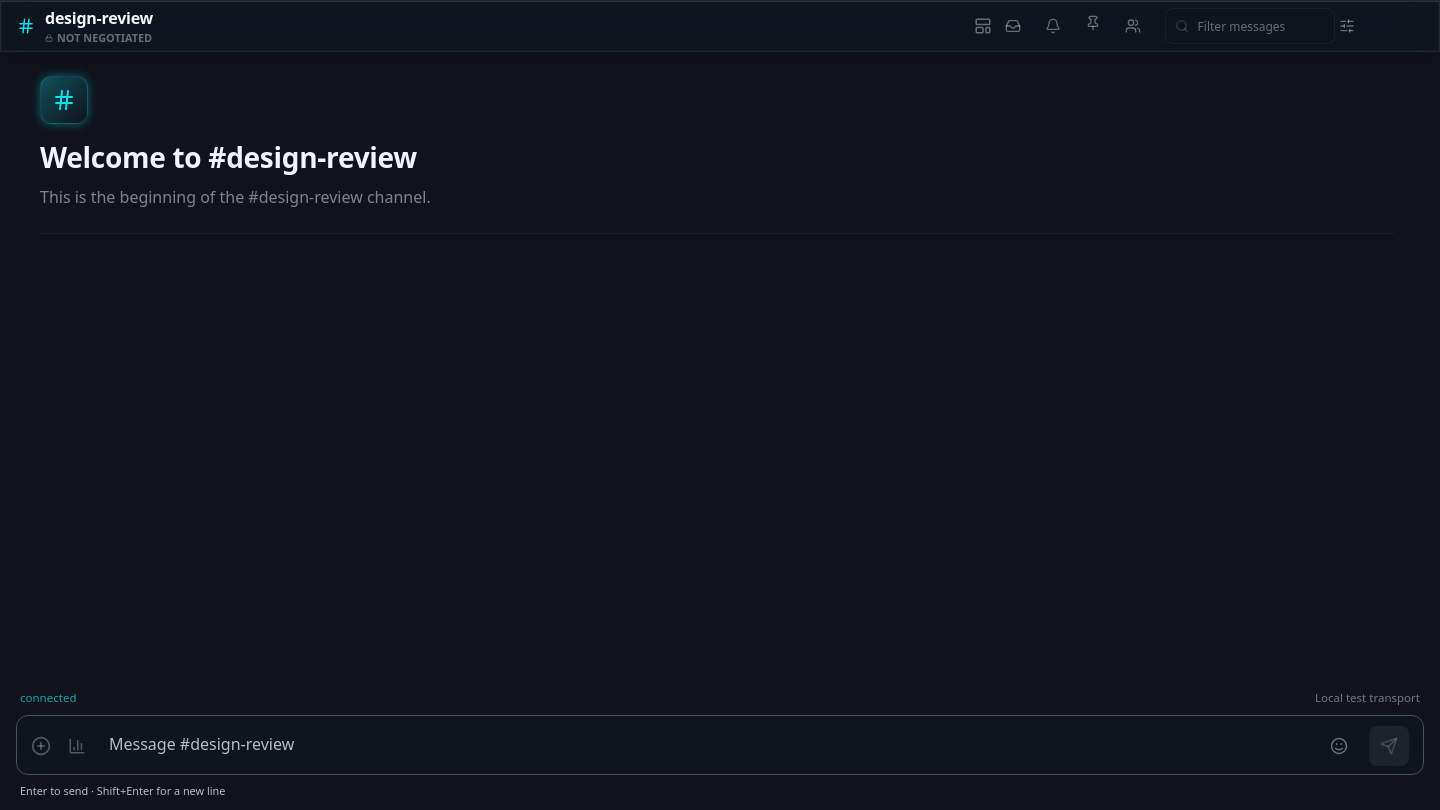
Scenario: chat composer submission › coalesces repeated Enter and preserves edits while a send is pending
In the text box named "Message Input": {"x": 705, "y": 745} [101, 722, 1309, 768], type "first draft"
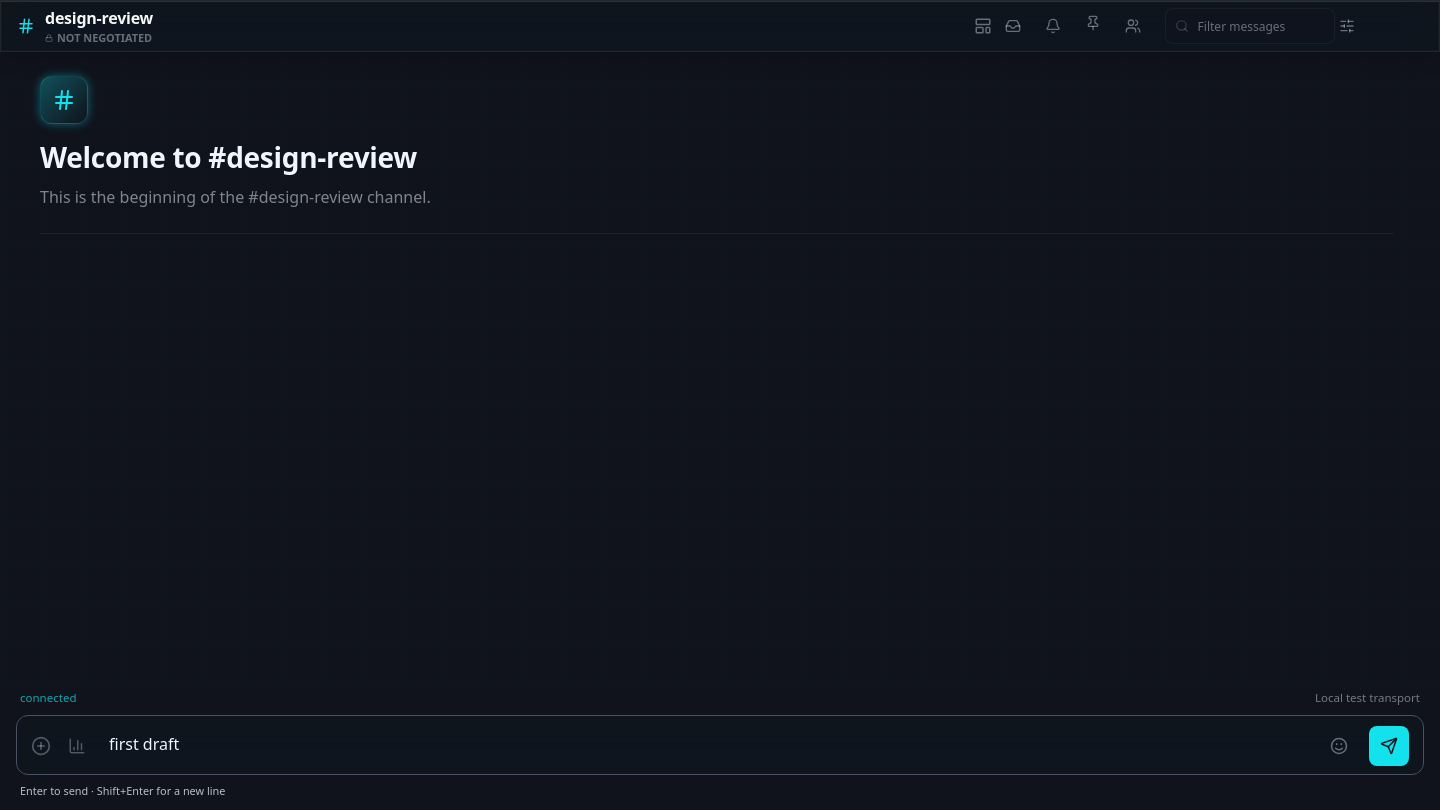
Press Enter in the text box named "Message Input", box [101, 722, 1309, 768]
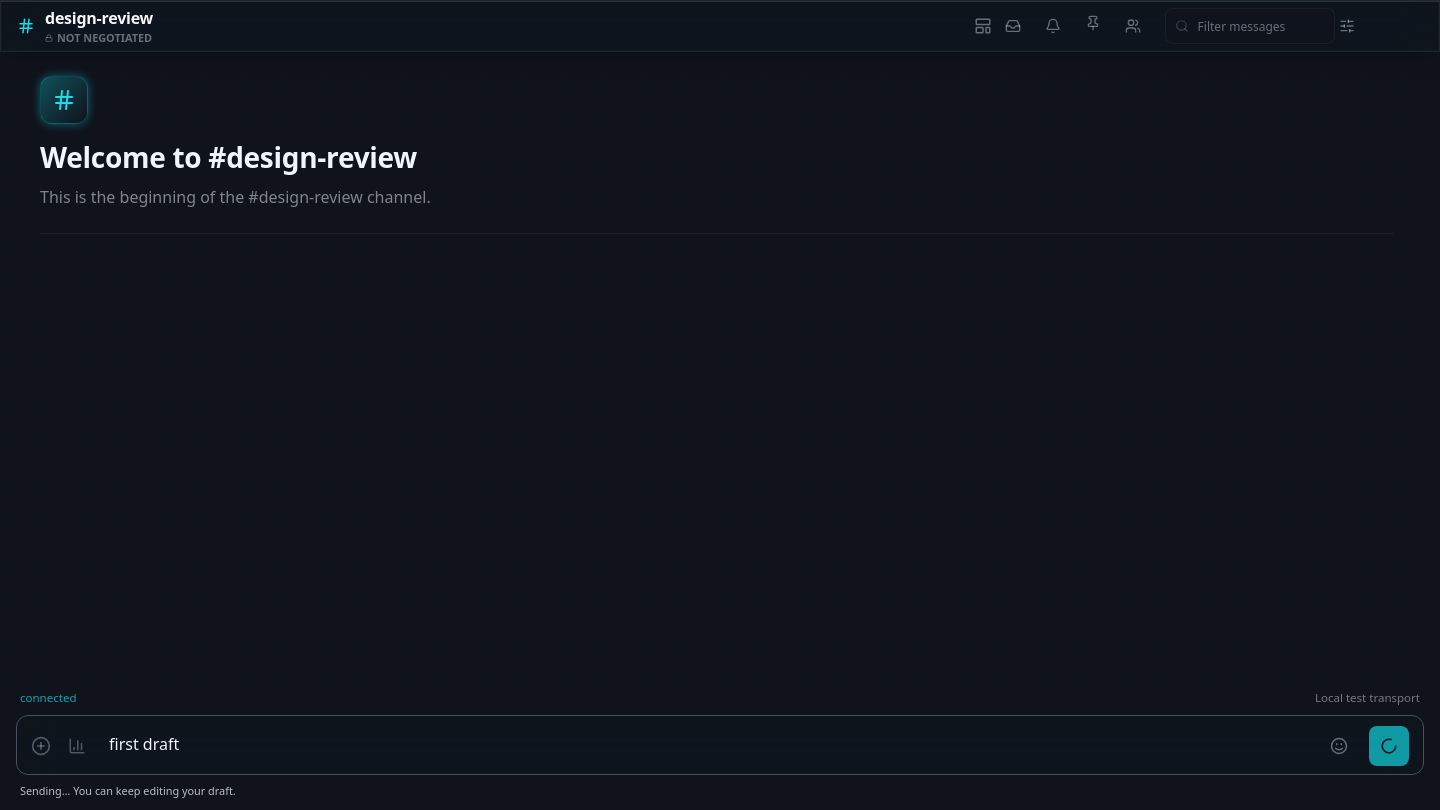
Press Enter in the text box named "Message Input", box [101, 722, 1309, 768]
Now the button named "Send Message" is disabled, box [1369, 726, 1409, 766]
Replace the text in the text box named "Message Input" with "a new draft": {"x": 705, "y": 745} [101, 722, 1309, 768]
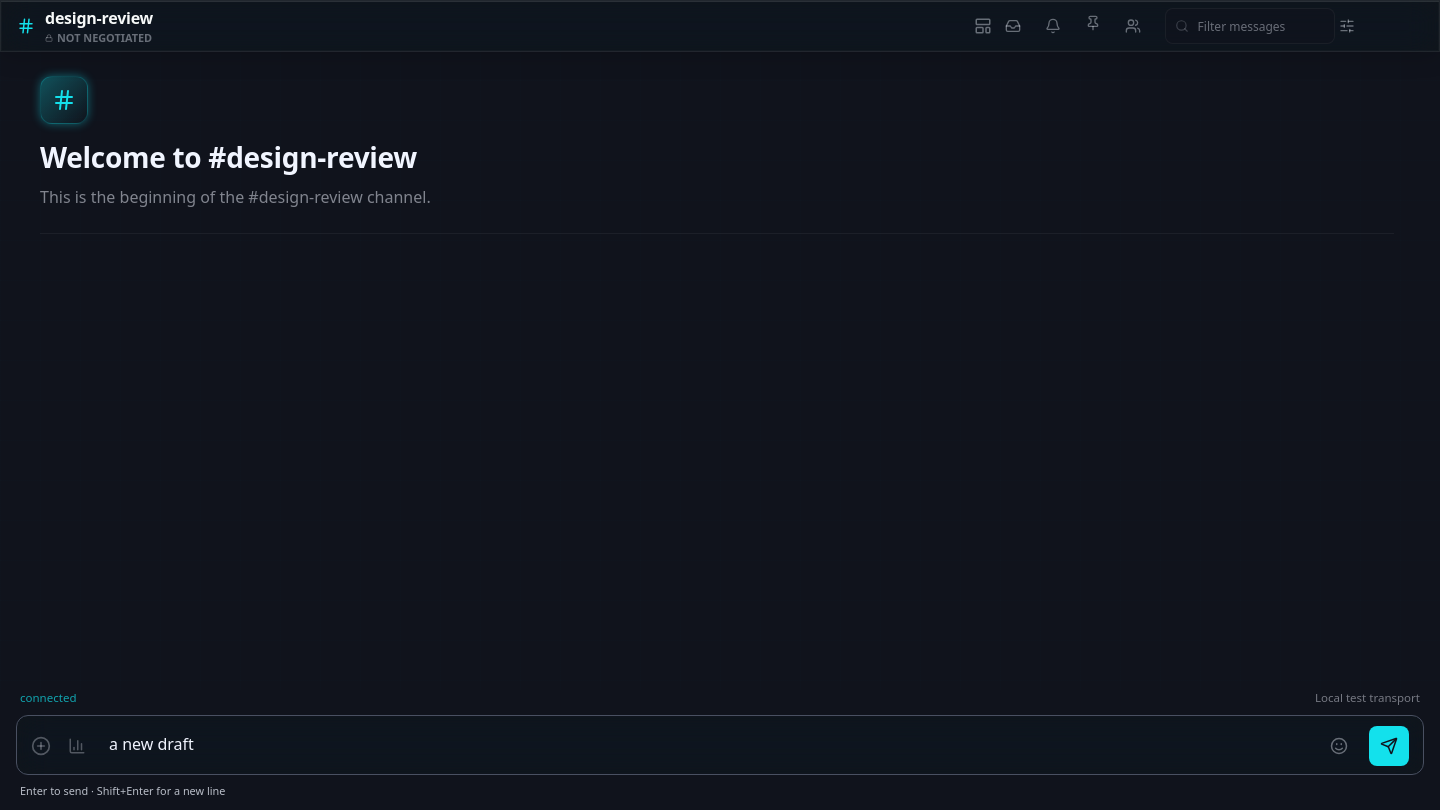
Now the button named "Send Message" is enabled, box [1369, 726, 1409, 766]
